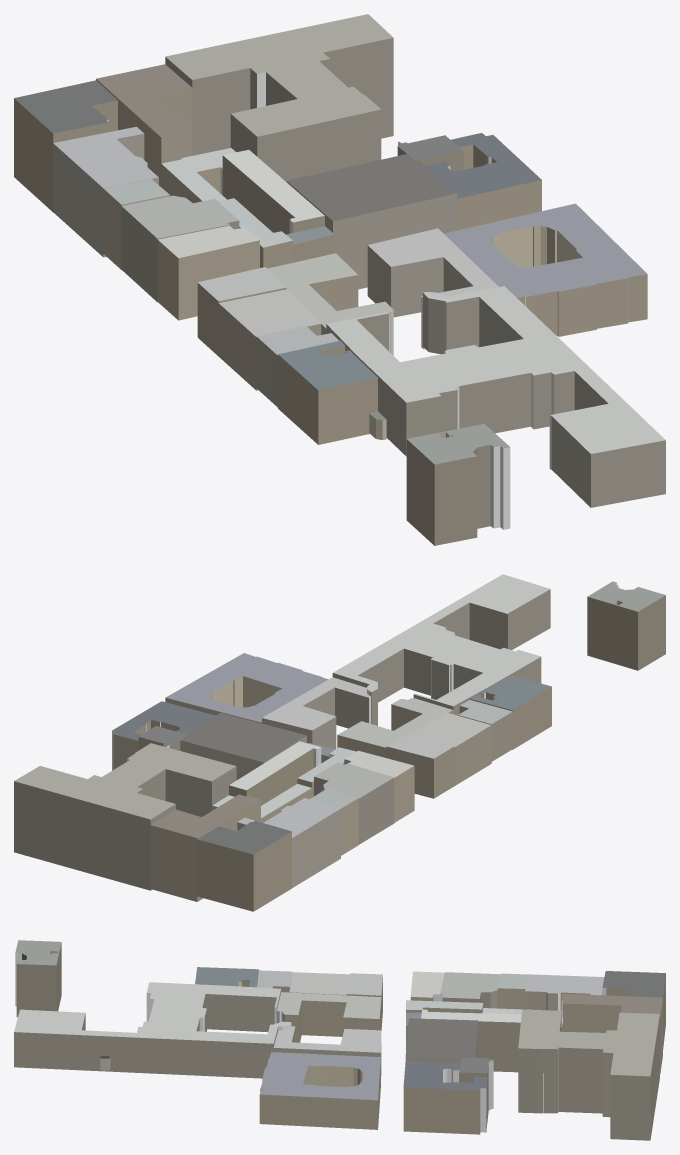
The picture shows the model from 3 angles, top to bottom: view 1: azimuth 30°, elevation 25°; view 2: azimuth 150°, elevation 25°; view 3: azimuth 270°, elevation 25°; orthographic projection. The views are drawn at different scales.
Parts seen in each view (by area): view 1: tuile; view 2: tuile; view 3: tuile.
Boxes of the visible parts, <box> form: tuile: <box>14,14,665,545</box>; tuile: <box>14,574,665,911</box>; tuile: <box>14,940,665,1140</box>.
Size of the model in its own units: 120 by 28.35 by 248.
